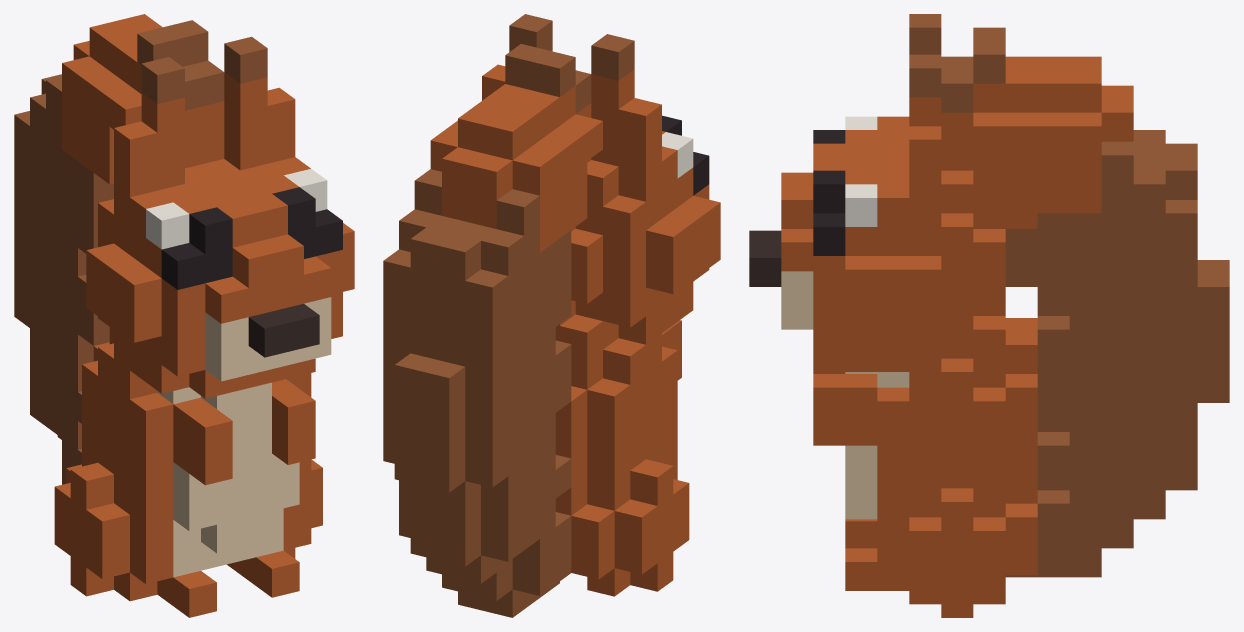
File: squirrel.glb
3 renders of one model, left to right at view 1: azimuth 30°, elevation 25°; view 2: azimuth 150°, elevation 25°; view 3: azimuth 270°, elevation 25°, orthographic.
Parts seen in each view (by area): view 1: squirrel__head, squirrel__tail, squirrel__body, squirrel__leg_br, squirrel__leg_bl, squirrel__leg_fr, squirrel__leg_fl; view 2: squirrel__tail, squirrel__head, squirrel__body, squirrel__leg_br, squirrel__leg_fr; view 3: squirrel__tail, squirrel__head, squirrel__body, squirrel__leg_bl, squirrel__leg_fl, squirrel__leg_br.
Boxes of the visible parts, x1=… form: squirrel__head: x1=86, y1=36, x2=354, y2=398; squirrel__tail: x1=14, y1=14, x2=224, y2=484; squirrel__body: x1=82, y1=327, x2=311, y2=577; squirrel__leg_br: x1=54, y1=451, x2=216, y2=617; squirrel__leg_bl: x1=227, y1=459, x2=322, y2=597; squirrel__leg_fr: x1=173, y1=397, x2=232, y2=485; squirrel__leg_fl: x1=272, y1=379, x2=315, y2=464; squirrel__tail: x1=383, y1=44, x2=602, y2=617; squirrel__head: x1=482, y1=14, x2=720, y2=349; squirrel__body: x1=555, y1=314, x2=677, y2=515; squirrel__leg_br: x1=571, y1=448, x2=689, y2=596; squirrel__leg_fr: x1=662, y1=320, x2=681, y2=380; squirrel__tail: x1=941, y1=27, x2=1229, y2=577; squirrel__head: x1=749, y1=14, x2=1005, y2=371; squirrel__body: x1=845, y1=316, x2=1037, y2=519; squirrel__leg_bl: x1=845, y1=488, x2=1037, y2=617; squirrel__leg_fl: x1=813, y1=374, x2=877, y2=445; squirrel__leg_br: x1=845, y1=519, x2=877, y2=548.
Size of the model in its own units: 0.8 by 1.8 by 1.5.
1 material, 1 textured.
